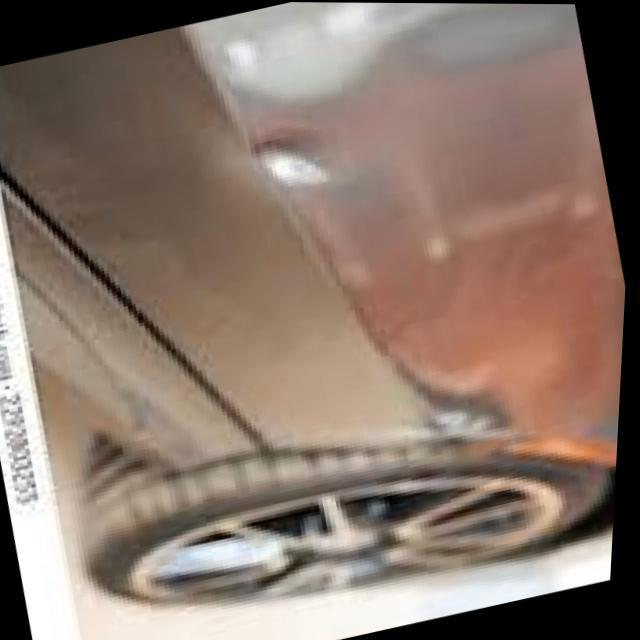Dent: (234, 107, 352, 217)
